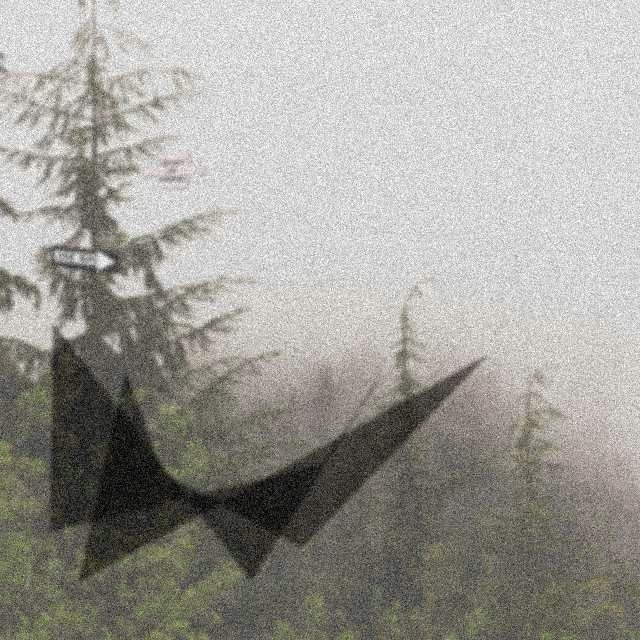DO_NOT_GO_AROUND: (138, 152, 208, 189)
ONE_WAY_ right: (50, 244, 120, 274)
